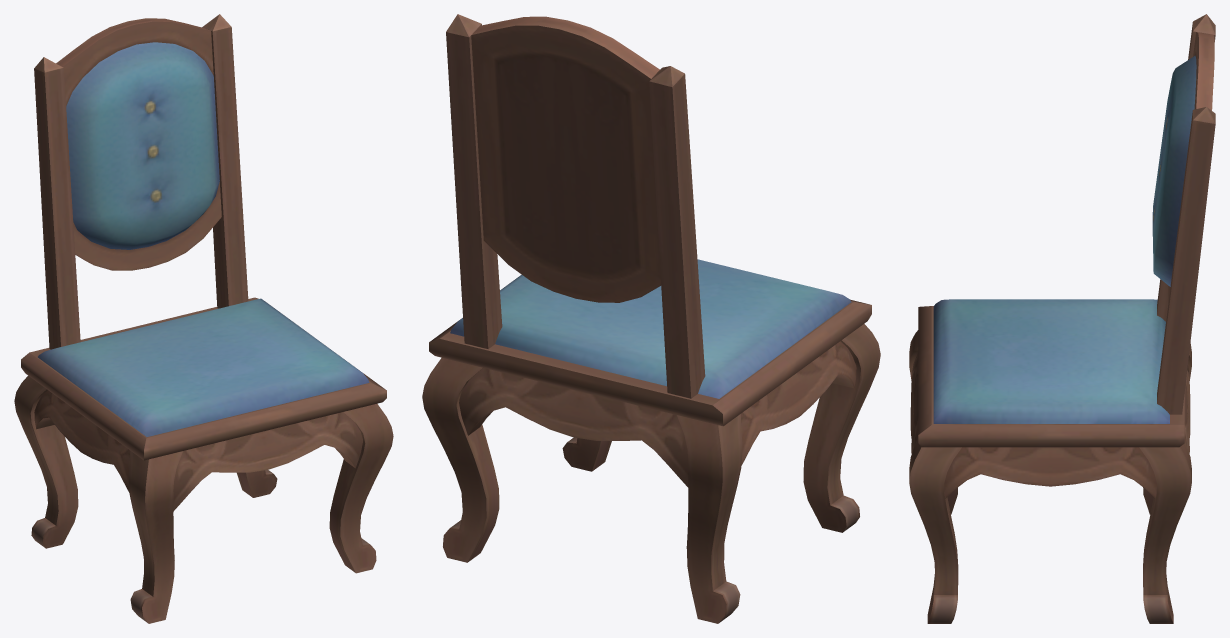
The model's file is Homeworld_Interior_Md_Chair_Prop_LeatherBack_02_Vo.fbx.
3 renders of one model, left to right at view 1: azimuth 30°, elevation 25°; view 2: azimuth 150°, elevation 25°; view 3: azimuth 270°, elevation 25°, orthographic. The views are drawn at different scales.
Visible parts, largest first — view 1: Indoor_Md_Prop_Chair_Leatherchair_04_Vo; view 2: Indoor_Md_Prop_Chair_Leatherchair_04_Vo; view 3: Indoor_Md_Prop_Chair_Leatherchair_04_Vo.
Part boxes in pixels (left/top/right/bottom): Indoor_Md_Prop_Chair_Leatherchair_04_Vo: left=14, top=14, right=393, bottom=623; Indoor_Md_Prop_Chair_Leatherchair_04_Vo: left=422, top=14, right=880, bottom=623; Indoor_Md_Prop_Chair_Leatherchair_04_Vo: left=909, top=14, right=1215, bottom=623.
Bounding box in the file's own units: 0.6609 × 1.22 × 0.6528.
